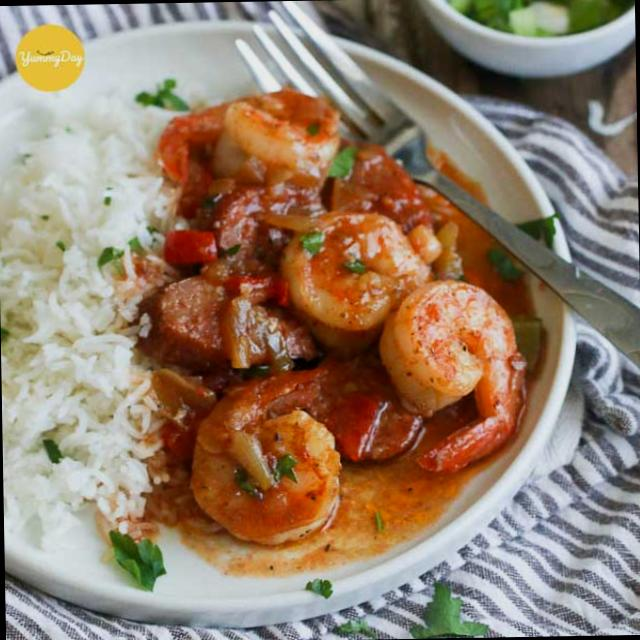com: (0, 96, 176, 541)
